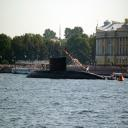submarine: (26, 57, 107, 81)
